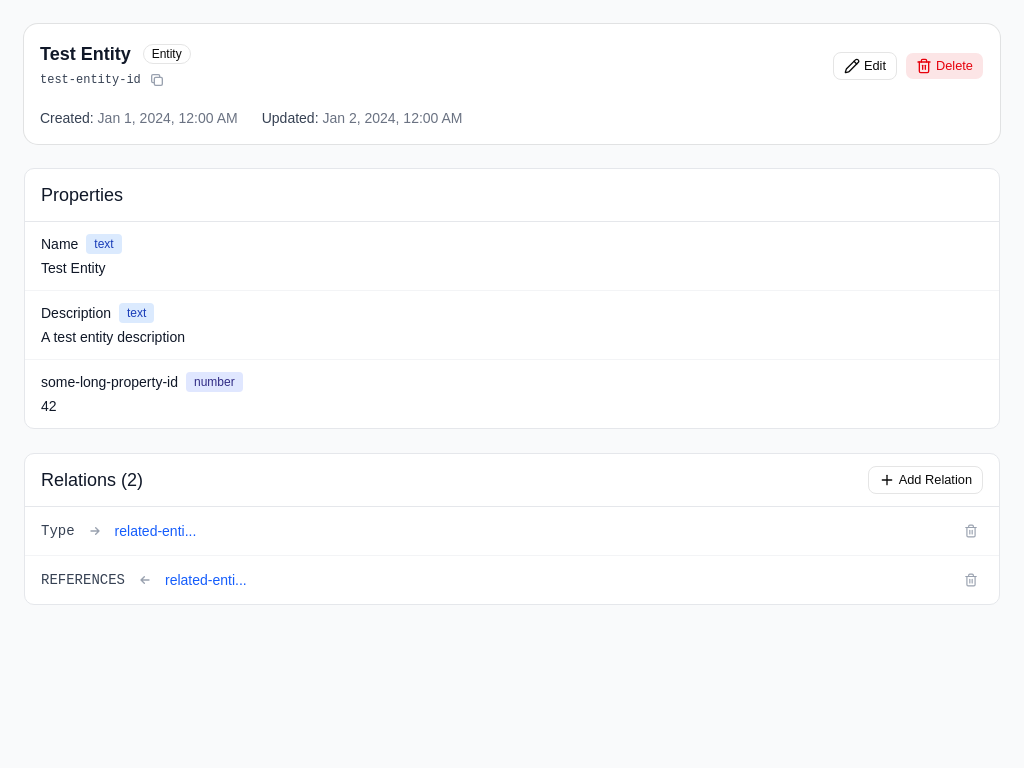
Test case: EntityPage › delete entity › shows spinner and disables buttons during pending
The image size is (1024, 768).
Click the button with test id "delete-entity-button" at (944, 66), box [905,52,984,80]
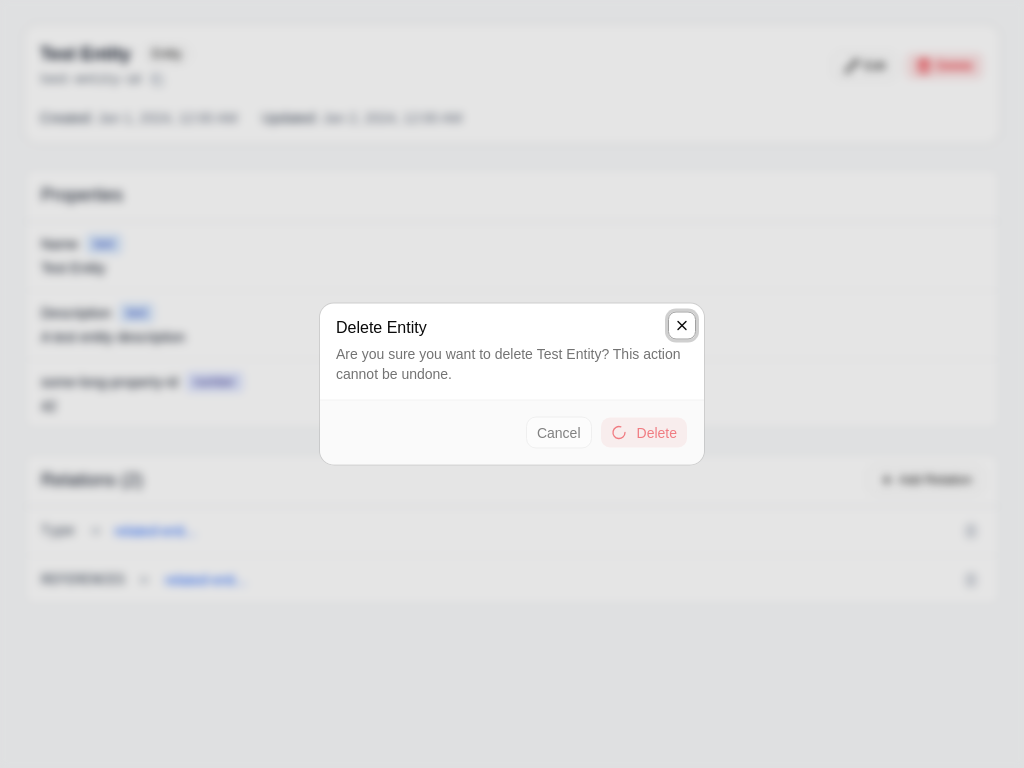
Expected: the button "Delete" is disabled, [600,416,688,448]
Expected: the button "Cancel" is disabled, [526,416,592,448]
Expected: the message named "Loading" is shown, [610,424,626,440]
